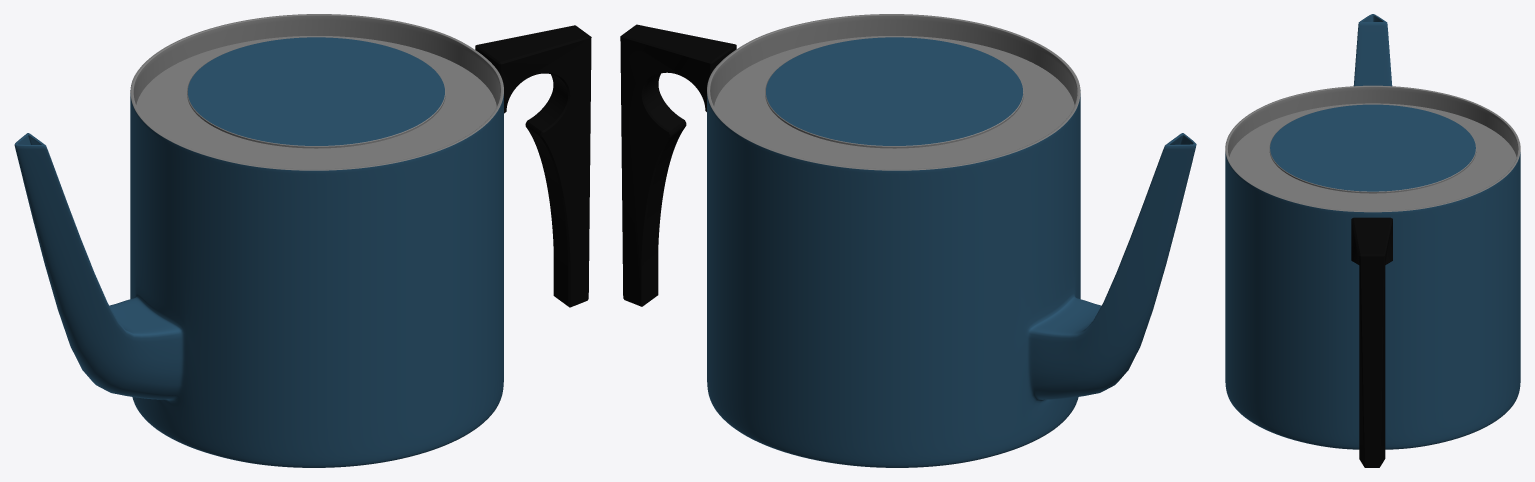
Rendered from cgt_Accessory_150_001.fbx.
3 views of the same model, side by side, from view 1: azimuth 30°, elevation 25°; view 2: azimuth 150°, elevation 25°; view 3: azimuth 270°, elevation 25° (orthographic). The views are drawn at different scales.
Parts seen in each view (by area): view 1: cgt_Accessory_150_001; view 2: cgt_Accessory_150_001; view 3: cgt_Accessory_150_001.
Part boxes in pixels (x1,y1,x2,y2): cgt_Accessory_150_001: (14, 14, 591, 467); cgt_Accessory_150_001: (620, 14, 1196, 467); cgt_Accessory_150_001: (1225, 14, 1520, 467).
Size of the model in its own units: 29.19 by 16.42 by 15.7.
